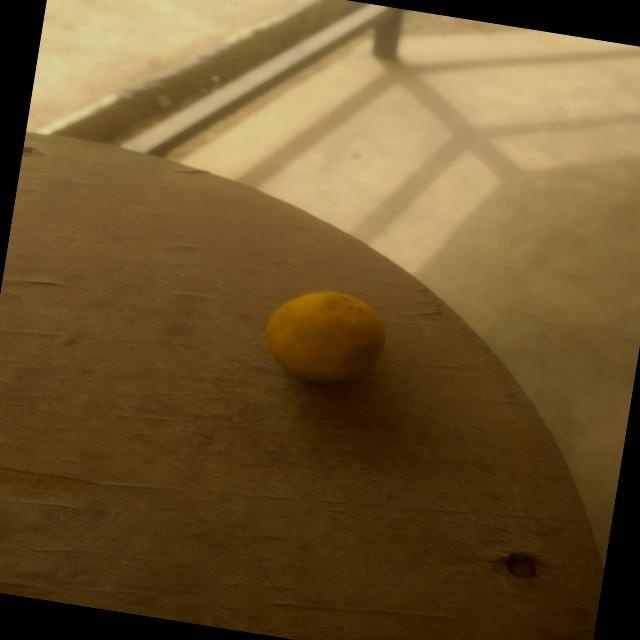agrume: (181, 212, 467, 416)
